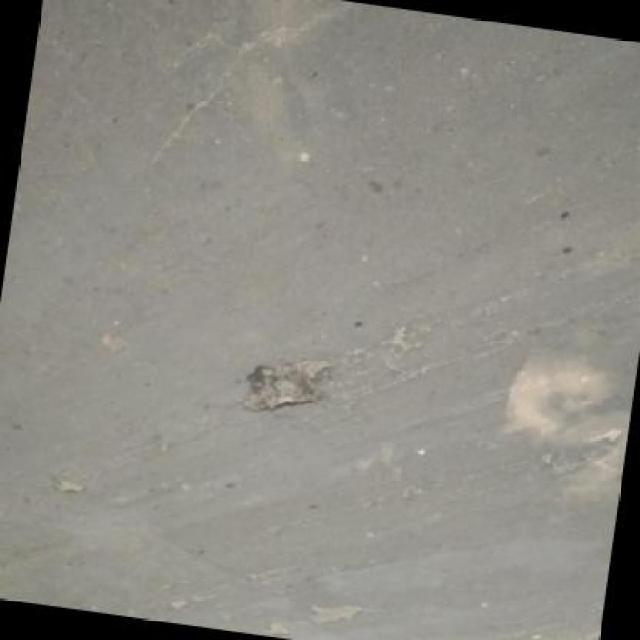pothole1: (233, 345, 333, 423), (304, 600, 362, 632), (49, 476, 85, 498), (262, 618, 295, 638)
